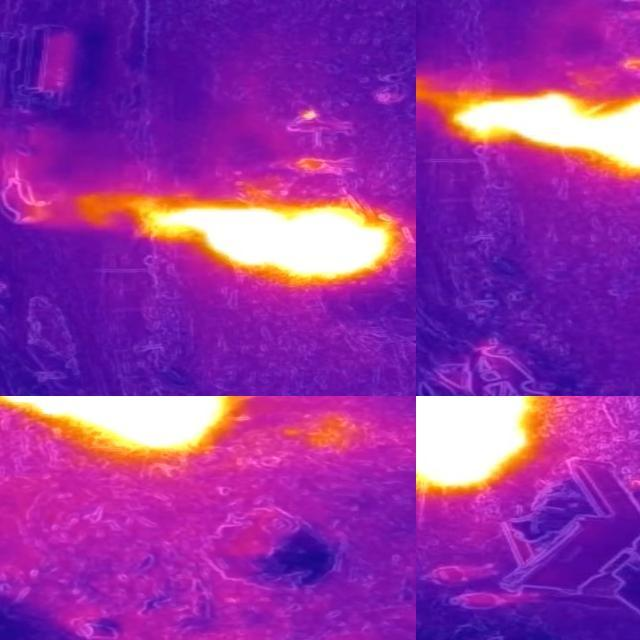fire: (100, 199, 400, 287), (447, 89, 640, 178), (1, 397, 232, 455), (417, 397, 551, 495)
